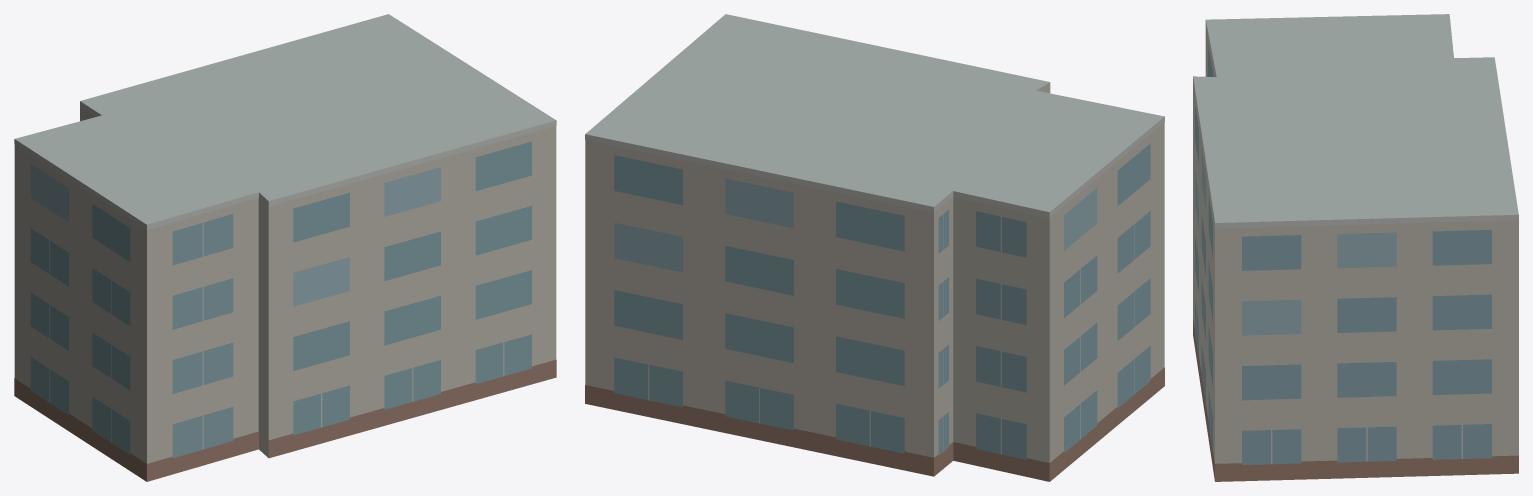
File: survey-upis-32757706.glb
3 renders of one model, left to right at view 1: azimuth 30°, elevation 25°; view 2: azimuth 150°, elevation 25°; view 3: azimuth 270°, elevation 25°, orthographic. The views are drawn at different scales.
Visible parts, largest first — view 1: survey-upis-32757706.tmp; view 2: survey-upis-32757706.tmp; view 3: survey-upis-32757706.tmp.
Part boxes in pixels (bbox=[...]): survey-upis-32757706.tmp: bbox=[14, 14, 556, 481]; survey-upis-32757706.tmp: bbox=[585, 14, 1164, 481]; survey-upis-32757706.tmp: bbox=[1193, 14, 1518, 481].
Size of the model in its own units: 19.58 by 11.3 by 12.9.
